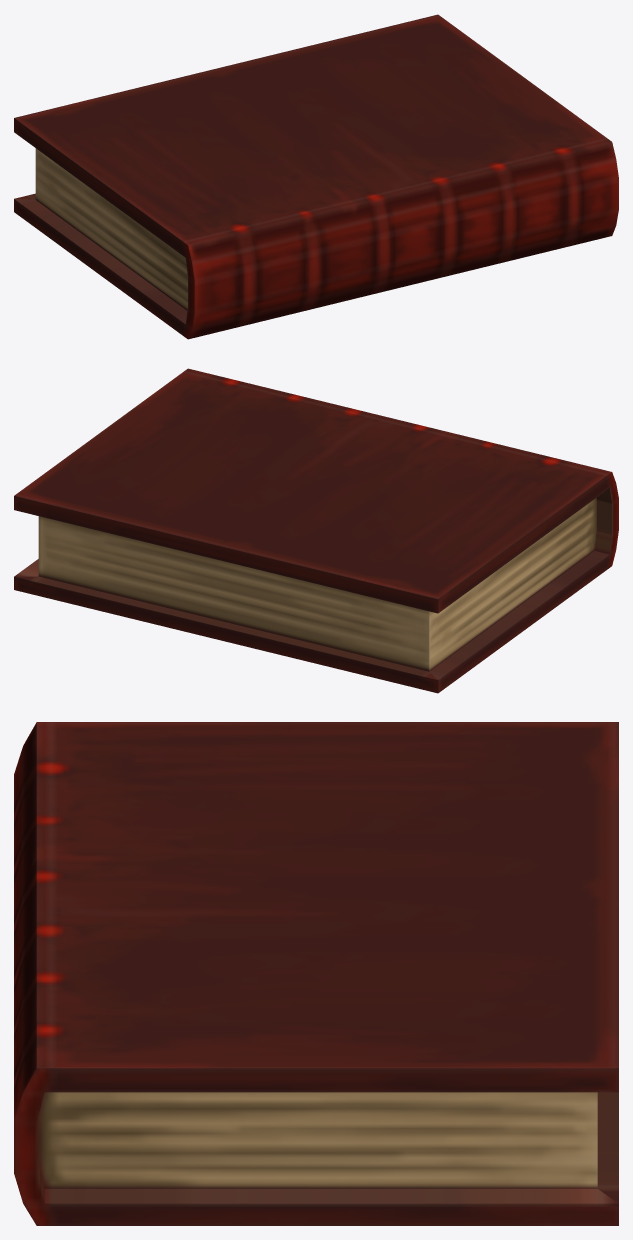
The model's file is Book_Closed01.fbx.
3 renders of one model, top to bottom at view 1: azimuth 30°, elevation 25°; view 2: azimuth 150°, elevation 25°; view 3: azimuth 270°, elevation 25°, orthographic. The views are drawn at different scales.
Visible parts, largest first — view 1: Book_closed_08; view 2: Book_closed_08; view 3: Book_closed_08.
Boxes of the visible parts, x1=… form: Book_closed_08: x1=14, y1=14, x2=618, y2=339; Book_closed_08: x1=14, y1=368, x2=618, y2=693; Book_closed_08: x1=14, y1=722, x2=618, y2=1225.
Bounding box in the file's own units: 1 × 0.212 × 0.7382.
